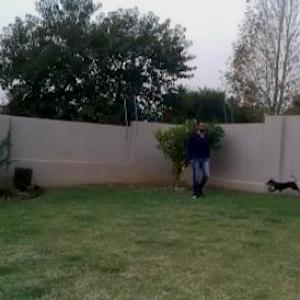follow: (186, 116, 213, 204)
